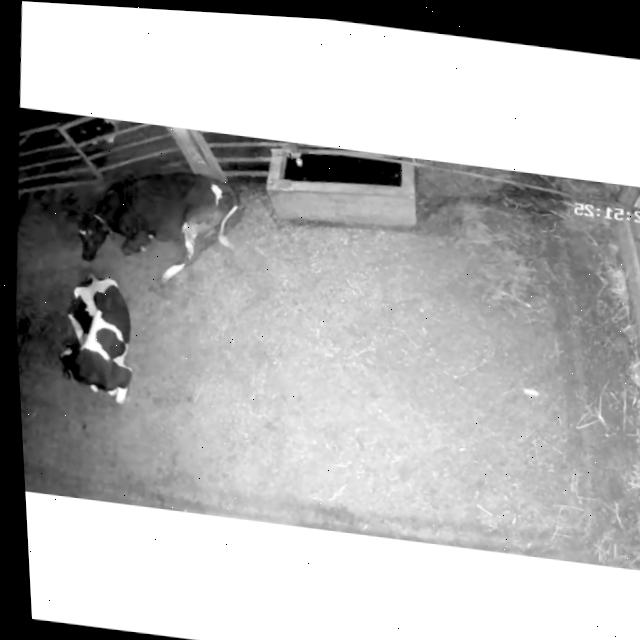lay: (77, 170, 241, 283), (60, 273, 132, 403)
